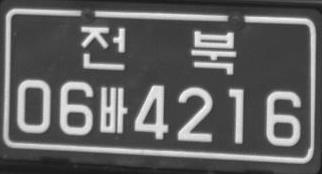0: (16, 77, 51, 134)
1: (221, 88, 253, 144)
2: (176, 85, 212, 142)
4: (134, 85, 169, 139)
6: (265, 90, 301, 148), (59, 80, 94, 135)
바: (99, 86, 127, 133)
전북_D: (80, 25, 236, 75)
